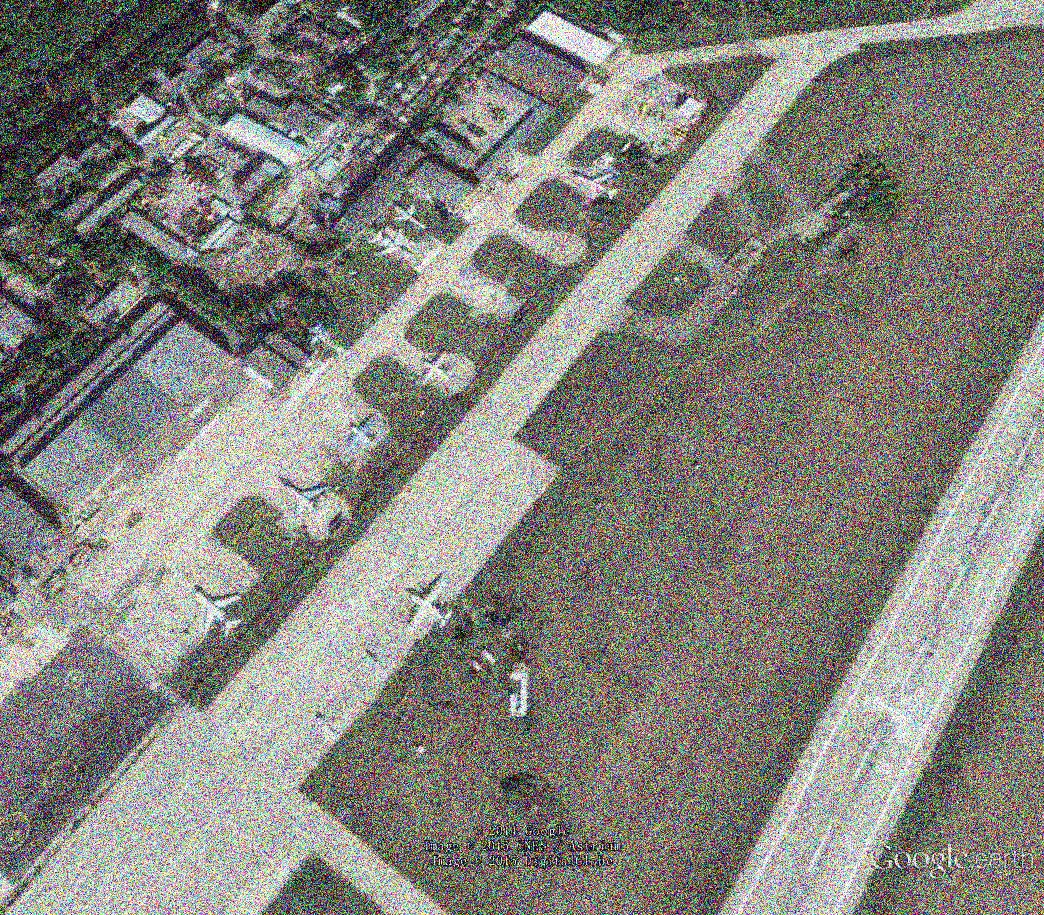aircraft: (405, 576, 456, 642), (190, 588, 247, 643), (277, 477, 337, 526), (567, 168, 625, 207), (342, 414, 384, 456), (367, 228, 417, 262), (417, 351, 460, 390), (390, 198, 432, 235), (598, 151, 619, 172)
